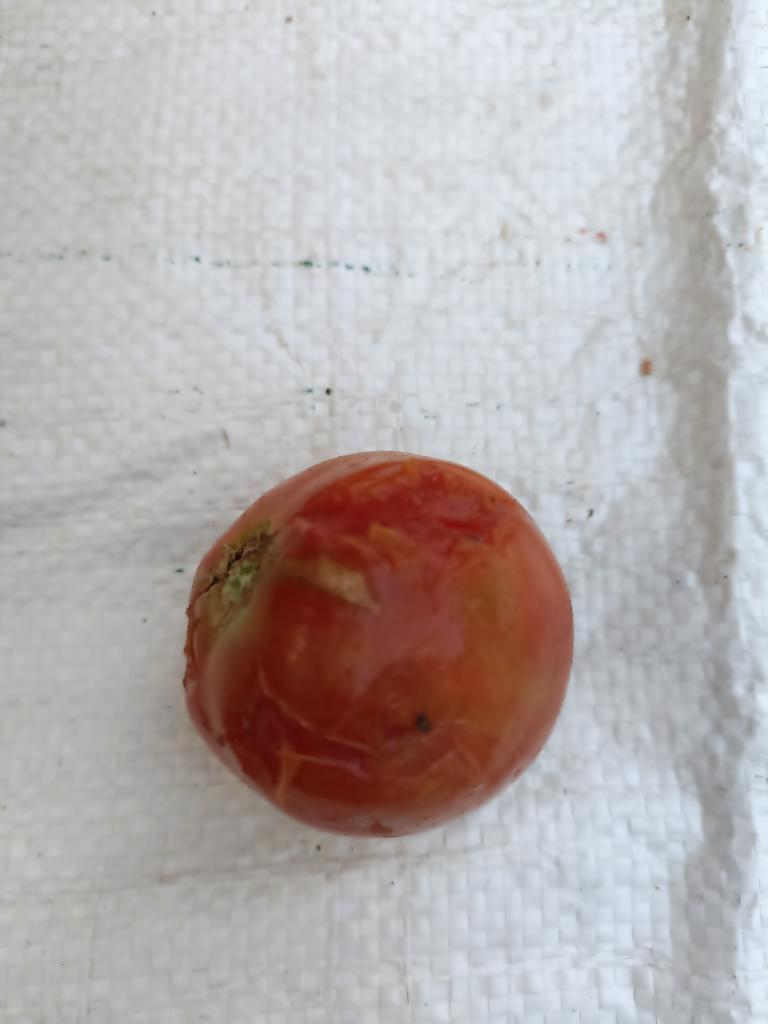bruise_discoloration: (203, 688, 522, 836), (300, 457, 532, 583)
surface_damage: (286, 555, 378, 612)
tomato: (184, 452, 573, 836)
